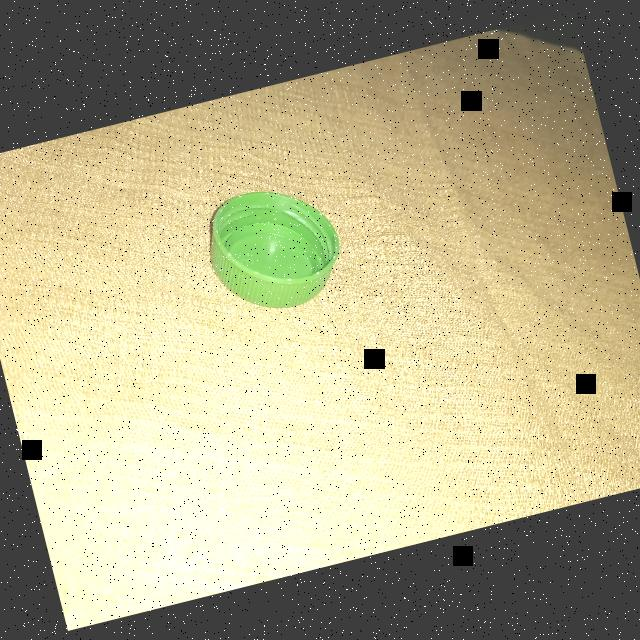plastic_bottle_cap: (197, 173, 352, 324)
